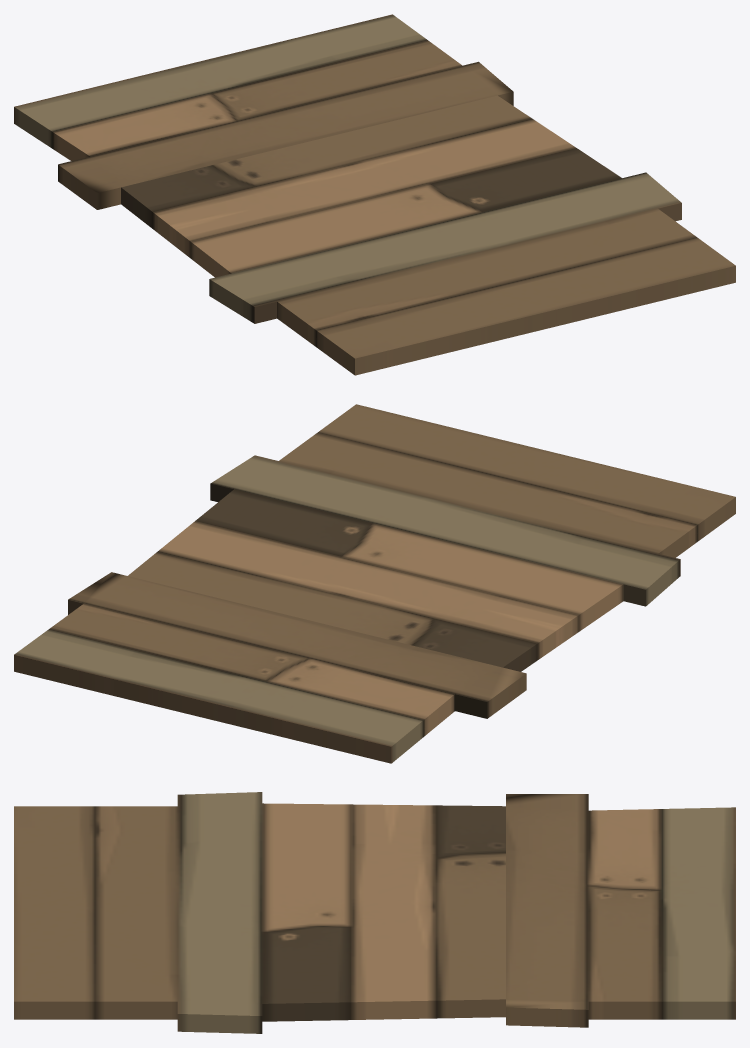
Rendered from SM_Bld_Dock_Short_01.fbx.
The picture shows the model from 3 angles, top to bottom: view 1: azimuth 30°, elevation 25°; view 2: azimuth 150°, elevation 25°; view 3: azimuth 270°, elevation 25°; orthographic projection. The views are drawn at different scales.
Parts seen in each view (by area): view 1: SM_Bld_Dock_Short_01; view 2: SM_Bld_Dock_Short_01; view 3: SM_Bld_Dock_Short_01.
Part boxes in pixels (box(x1,y1,x2,y2)): SM_Bld_Dock_Short_01: box(14, 14, 735, 375); SM_Bld_Dock_Short_01: box(14, 404, 735, 763); SM_Bld_Dock_Short_01: box(14, 792, 735, 1033).
Size of the model in its own units: 269 by 9.97 by 366.
